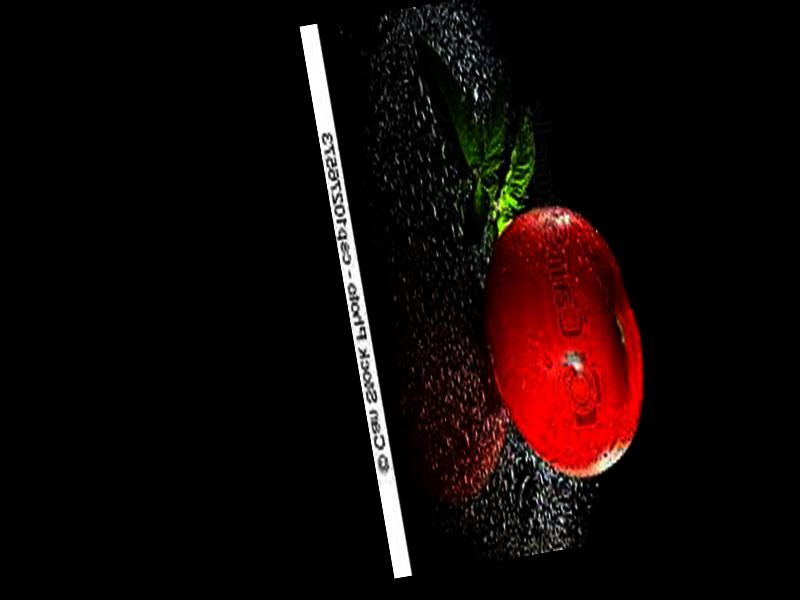Tomato: (467, 194, 662, 489)
